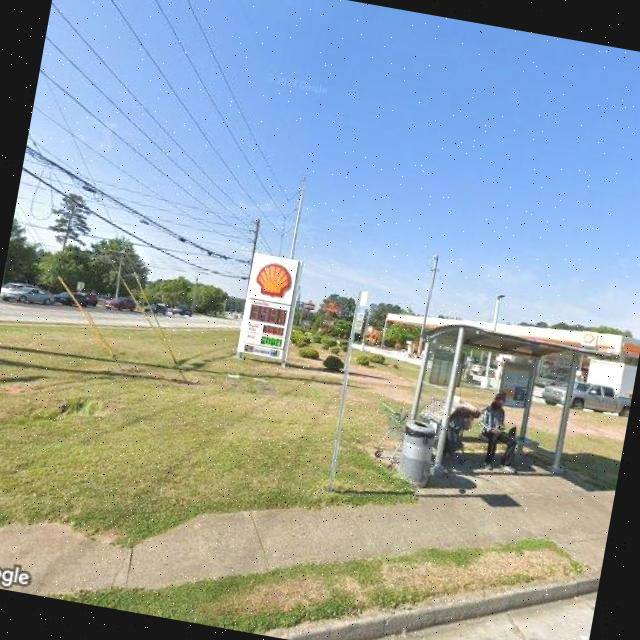seating: (472, 428, 540, 474)
shelter: (398, 316, 606, 497)
trash_can: (394, 416, 437, 488)
